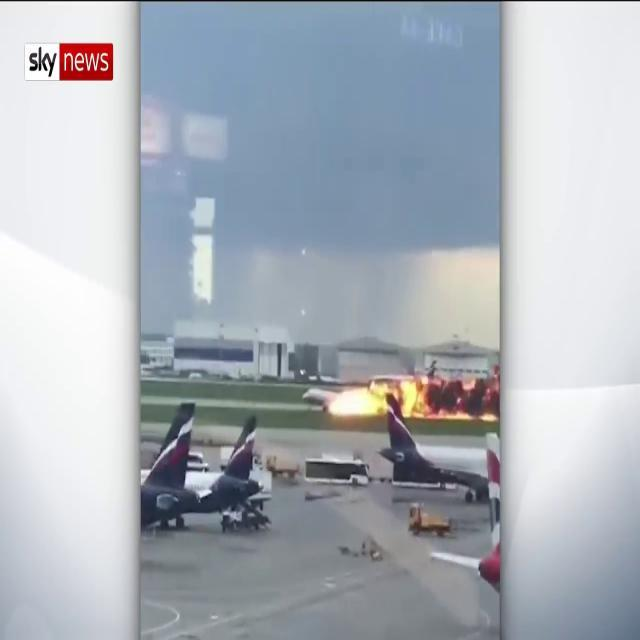Fire: (327, 368, 438, 426)
